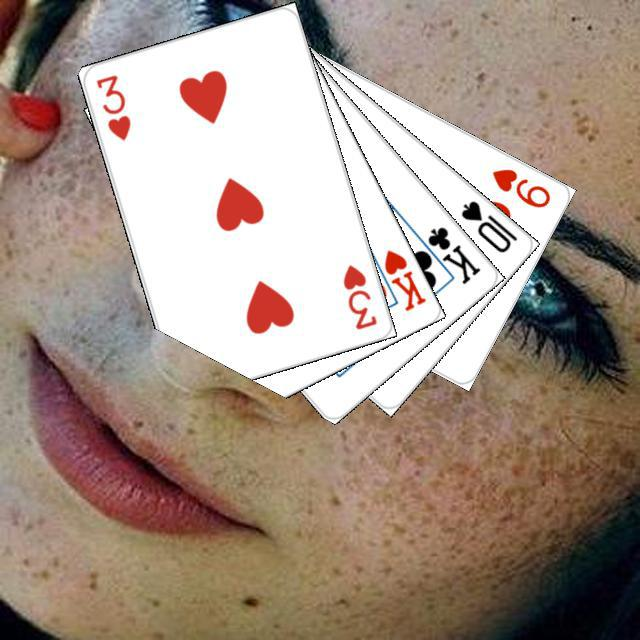10s: (456, 195, 520, 255)
3h: (91, 69, 133, 143), (338, 259, 379, 331)
9h: (486, 163, 553, 210)
Kc: (410, 221, 483, 286)
Kh: (365, 245, 428, 313)
